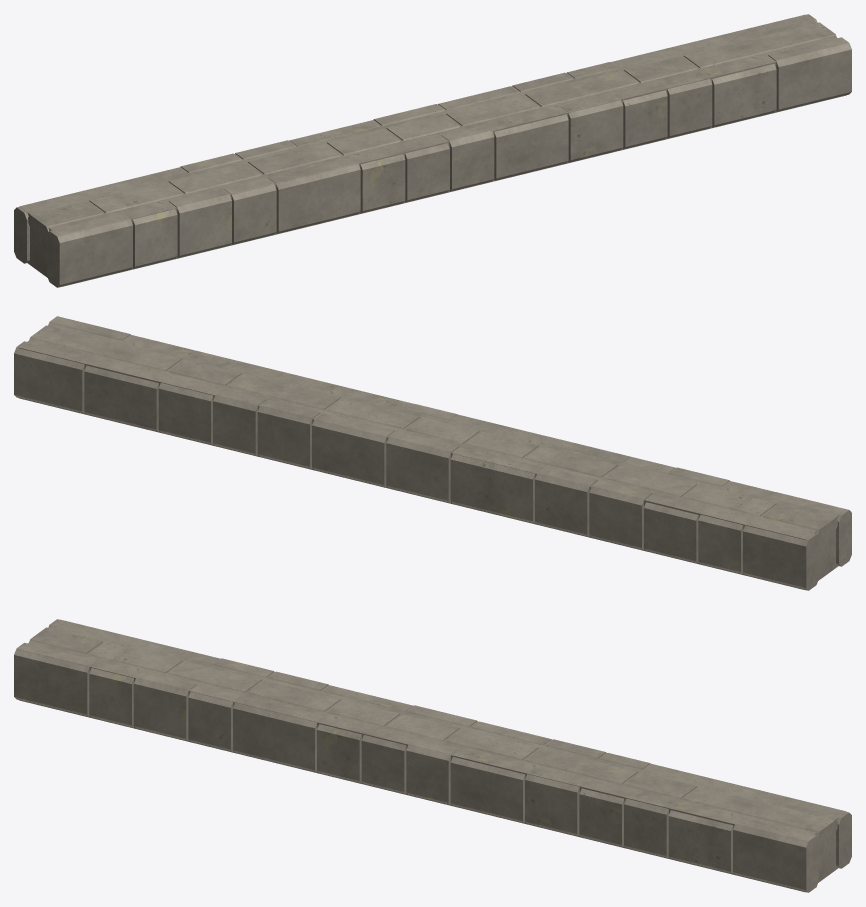
Rendered from HO_Found_Plinth_16.fbx.
The picture shows the model from 3 angles, top to bottom: view 1: azimuth 30°, elevation 25°; view 2: azimuth 150°, elevation 25°; view 3: azimuth 330°, elevation 25°; orthographic projection.
Visible parts, largest first — view 1: HO_Found_Plinth_16; view 2: HO_Found_Plinth_16; view 3: HO_Found_Plinth_16.
Boxes of the visible parts, left/top/right/bottom form: HO_Found_Plinth_16: left=14, top=14, right=851, bottom=287; HO_Found_Plinth_16: left=14, top=316, right=851, bottom=590; HO_Found_Plinth_16: left=14, top=619, right=851, bottom=892.
Size of the model in its own units: 16 by 1 by 1.6.
